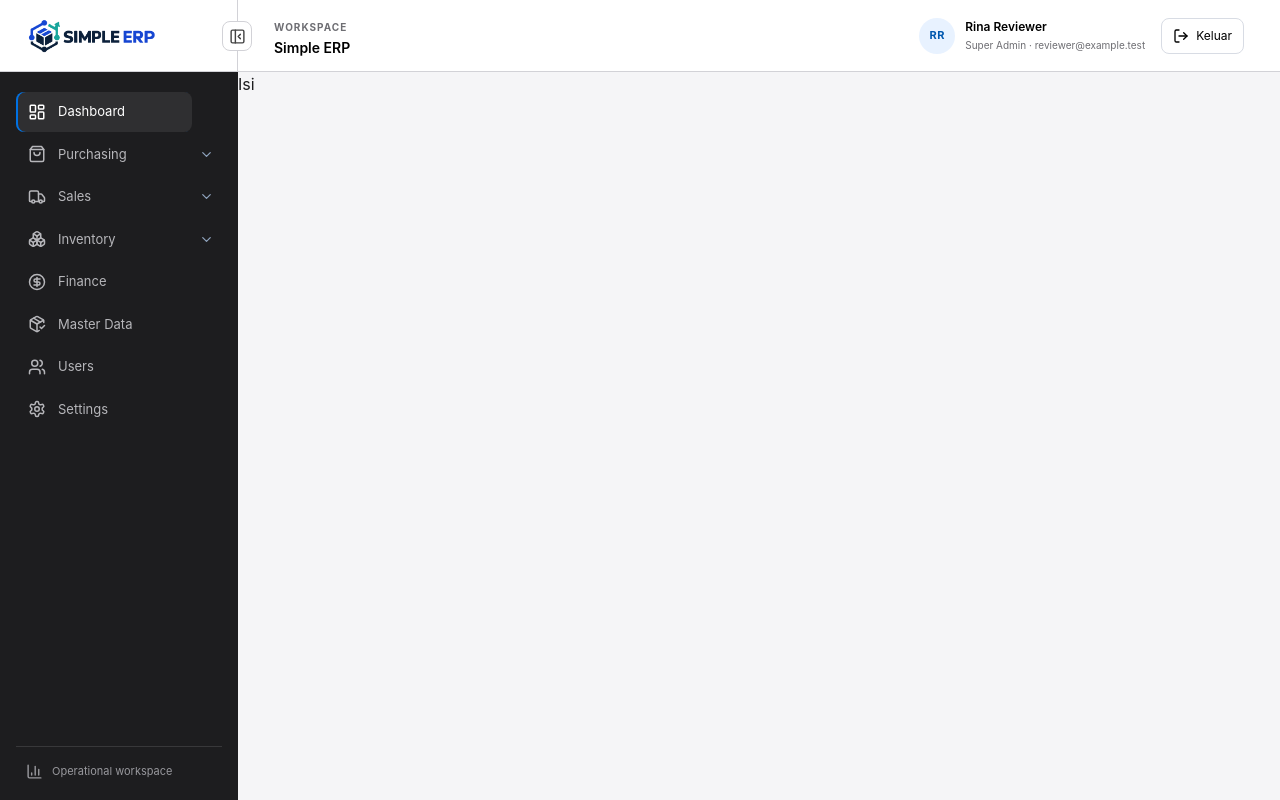
Test case: application shell › collapses and expands the sidebar from the header control
The width and height of the screenshot is (1280, 800).
Click the button named "Ciutkan sidebar": (237, 36) [222,21,252,51]
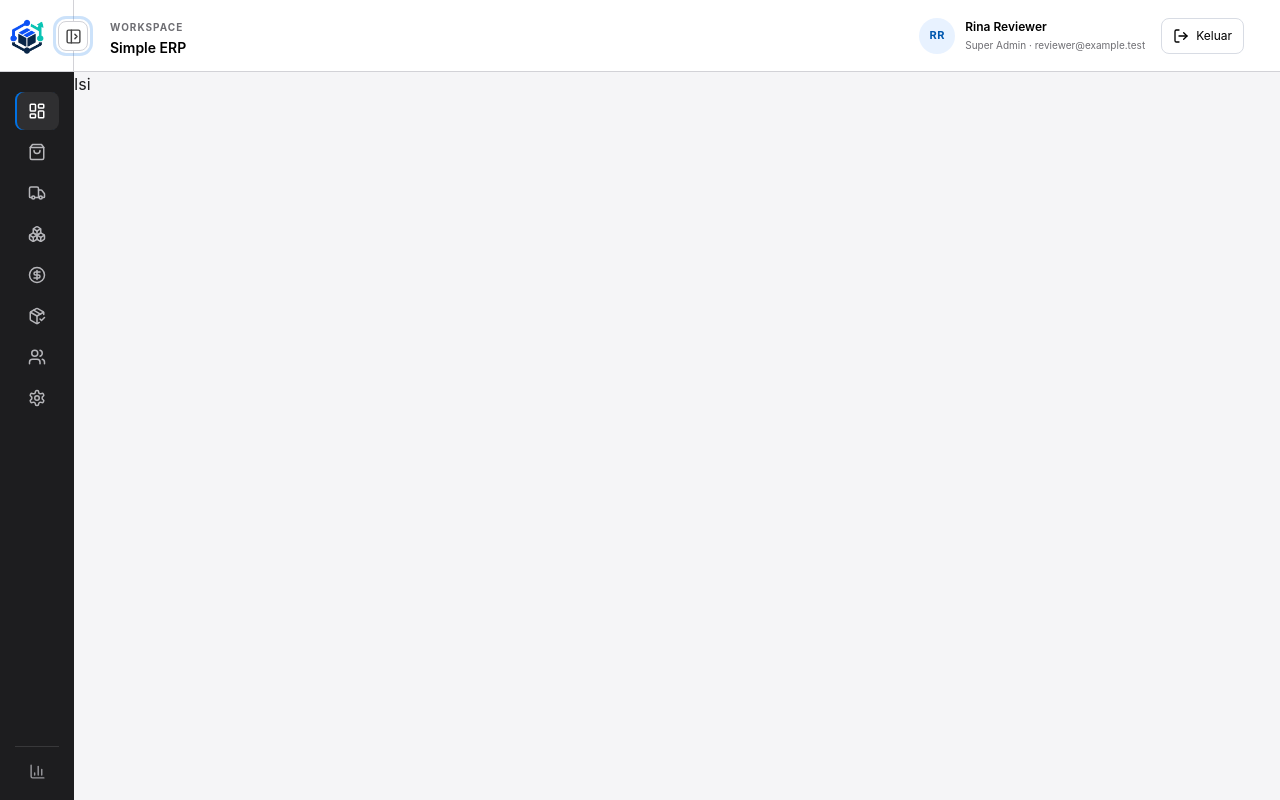
Check: the button named "Buka sidebar" is shown
Click the button named "Buka sidebar": (73, 36) [58,21,88,51]
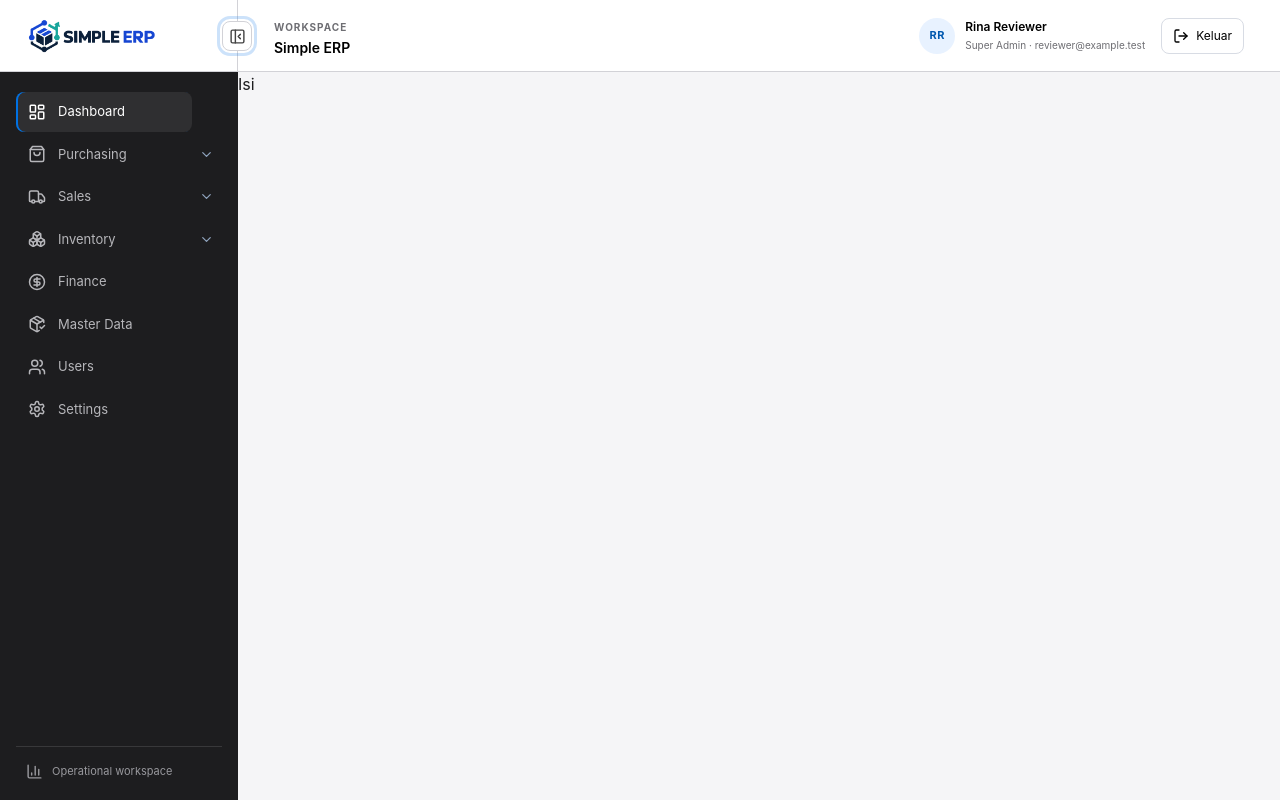
Check: the button named "Ciutkan sidebar" is shown, box [222,21,252,51]
